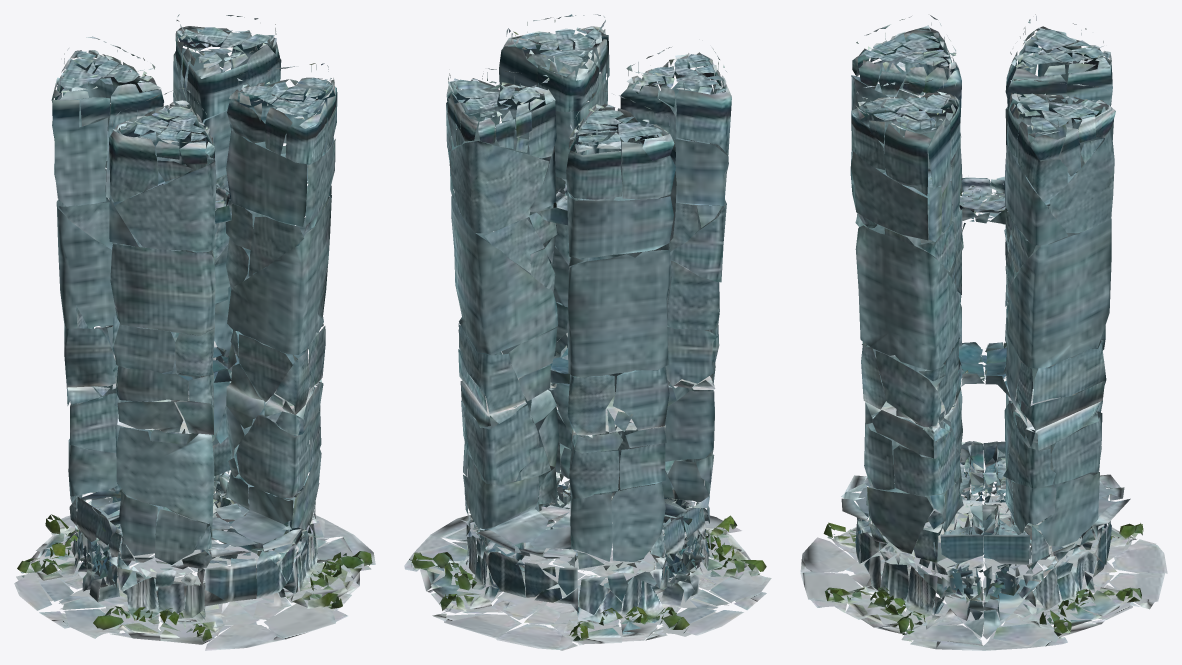
Rendered from tower_k_p.glb.
The picture shows the model from 3 angles, left to right: view 1: azimuth 30°, elevation 25°; view 2: azimuth 150°, elevation 25°; view 3: azimuth 270°, elevation 25°; orthographic projection.
Parts seen in each view (by area): view 1: Mesh_0; view 2: Mesh_0; view 3: Mesh_0.
Boxes of the visible parts, <box> form: Mesh_0: <box>14,14,375,650</box>; Mesh_0: <box>404,14,771,650</box>; Mesh_0: <box>800,14,1167,650</box>.
Bounding box in the file's own units: 1.25 × 1.91 × 1.25.
1 material, 1 textured.
